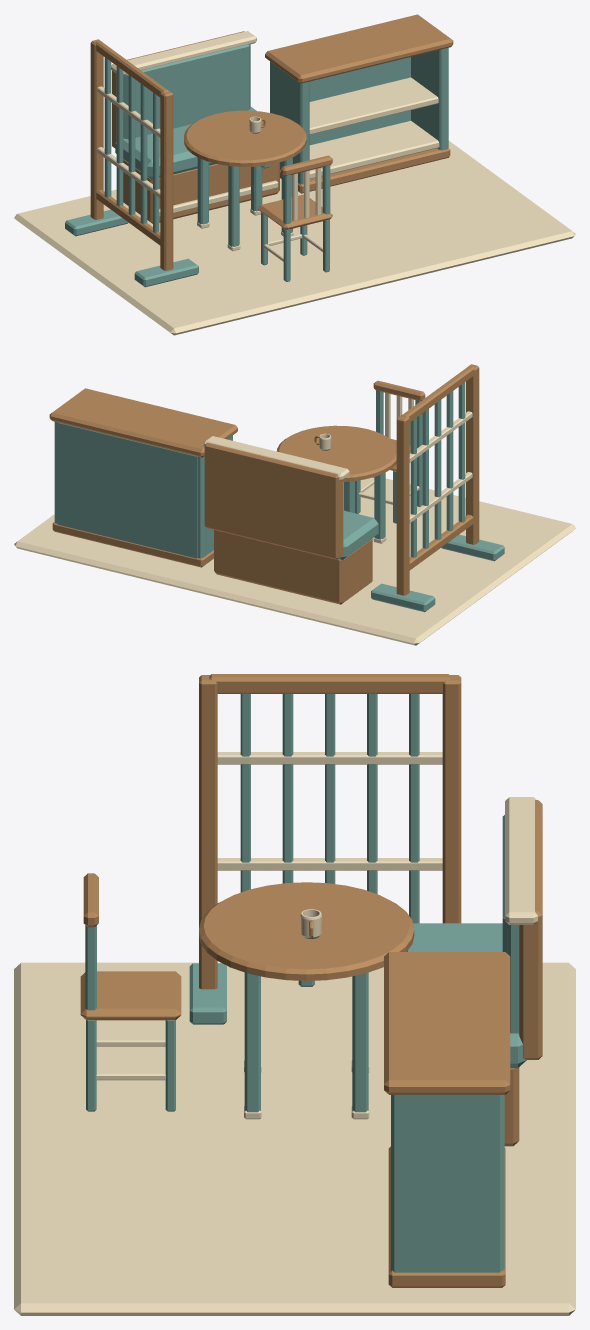
3 renders of one model, top to bottom at view 1: azimuth 30°, elevation 25°; view 2: azimuth 150°, elevation 25°; view 3: azimuth 270°, elevation 25°, orthographic. The views are drawn at different scales.
Visible parts, largest first — view 1: dining-corner-scene-01; view 2: dining-corner-scene-01; view 3: dining-corner-scene-01.
Boxes of the visible parts, x1,y1,x2,y2 form: dining-corner-scene-01: [14, 14, 575, 335]; dining-corner-scene-01: [14, 364, 575, 645]; dining-corner-scene-01: [14, 674, 575, 1315].
Bounding box in the file's own units: 3.5 × 1.6 × 2.4.
